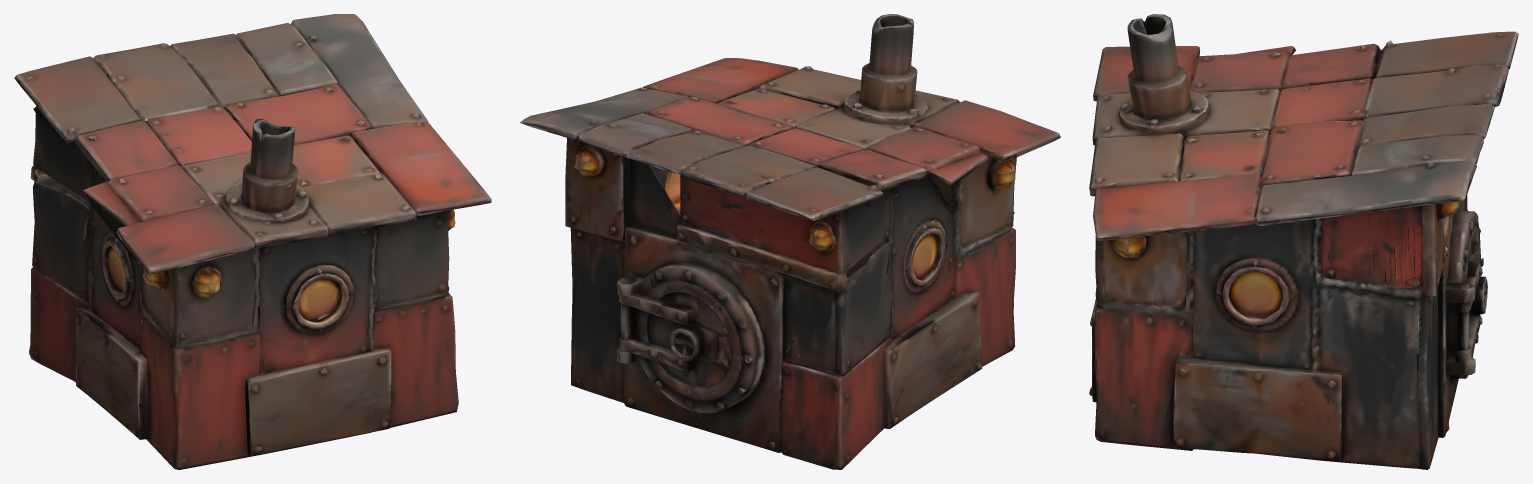
3 views of the same model, side by side, from view 1: azimuth 30°, elevation 25°; view 2: azimuth 150°, elevation 25°; view 3: azimuth 270°, elevation 25° (orthographic). The views are drawn at different scales.
Visible parts, largest first — view 1: repaired; view 2: repaired; view 3: repaired.
Part boxes in pixels (left/top/right/bottom): repaired: left=14, top=14, right=491, bottom=469; repaired: left=520, top=14, right=1060, bottom=469; repaired: left=1089, top=14, right=1518, bottom=469.
Size of the model in its own units: 0.9986 by 0.8166 by 0.9157.
Materials: 1 (1 with a texture image).
